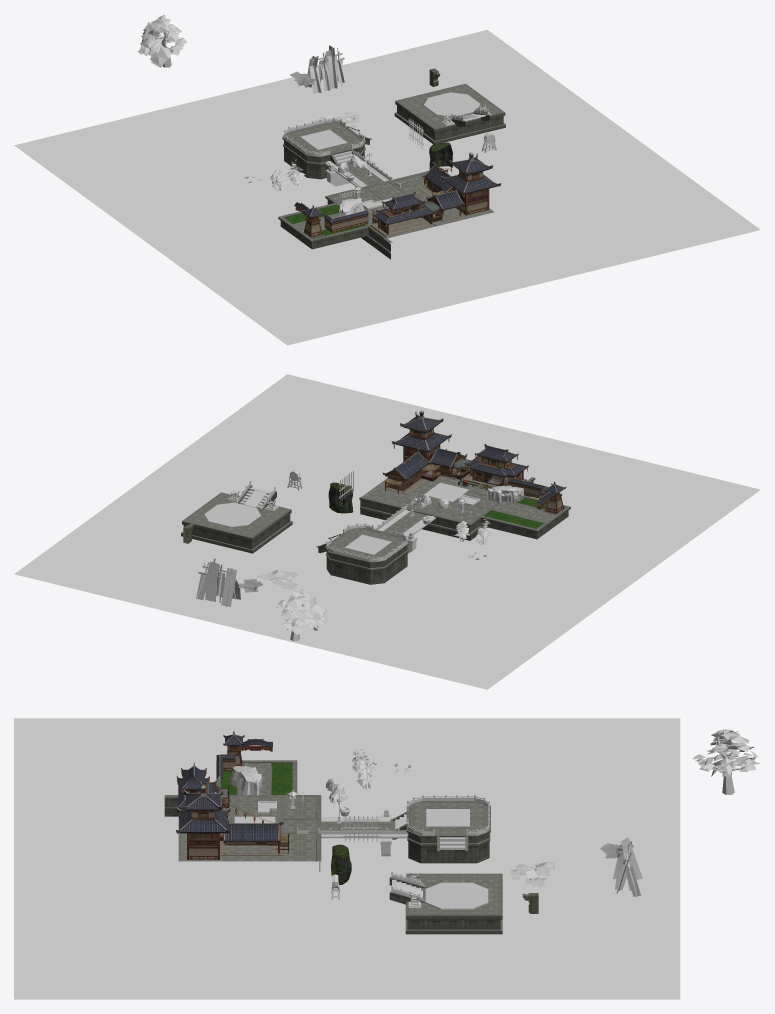
File: S7_3d_pve106.FBX
The picture shows the model from 3 angles, top to bottom: view 1: azimuth 30°, elevation 25°; view 2: azimuth 150°, elevation 25°; view 3: azimuth 270°, elevation 25°; orthographic projection. The views are drawn at different scales.
Parts seen in each view (by area): view 1: S7_3d_pve106_shuimian, S7_3d_pve106_jianzhu_02, S7_3d_pve106_taizi01_04, S7_3d_pve106_lumian01_01, S7_3d_pve106_jianzhu_01, S7_3d_pve106_zhiwu03, S7_3d_pve106_taizi02, S7_3d_pve106_zhiwu01, S7_3d_pve106_lumian01_06, S7_3d_pve106_taizi01_06, S7_3d_pve106_lumian01_03, S7_3d_pve106_taizi05 (+2 smaller); view 2: S7_3d_pve106_shuimian, S7_3d_pve106_jianzhu_02, S7_3d_pve106_lumian01_01, S7_3d_pve106_taizi02, S7_3d_pve106_jianzhu_01, S7_3d_pve106_taizi01_04, S7_3d_pve106_taizi01_01, S7_3d_pve106_zhiwu03, S7_3d_pve106_zhiwu01, S7_3d_pve106_lumian01_06, S7_3d_pve106_taizi01_06, S7_3d_pve106_taizi05 (+6 smaller); view 3: S7_3d_pve106_shuimian, S7_3d_pve106_jianzhu_02, S7_3d_pve106_lumian01_01, S7_3d_pve106_taizi01_04, S7_3d_pve106_taizi02, S7_3d_pve106_zhiwu03, S7_3d_pve106_lumian01_06, S7_3d_pve106_lumian01_03, S7_3d_pve106_taizi05, S7_3d_pve106_jianzhu_01, S7_3d_pve106_zhiwu01, S7_3d_pve106_taizi01_01 (+9 smaller).
Part boxes in pixels (box(x1,y1,x2,y2)): S7_3d_pve106_shuimian: box(14, 30, 760, 345); S7_3d_pve106_jianzhu_02: box(418, 152, 501, 222); S7_3d_pve106_taizi01_04: box(394, 83, 505, 144); S7_3d_pve106_lumian01_01: box(331, 173, 494, 238); S7_3d_pve106_jianzhu_01: box(367, 191, 436, 238); S7_3d_pve106_zhiwu03: box(138, 14, 187, 67); S7_3d_pve106_taizi02: box(282, 122, 366, 179); S7_3d_pve106_zhiwu01: box(305, 45, 344, 93); S7_3d_pve106_lumian01_06: box(399, 85, 500, 128); S7_3d_pve106_taizi01_06: box(278, 203, 368, 249); S7_3d_pve106_lumian01_03: box(286, 123, 362, 153); S7_3d_pve106_taizi05: box(424, 92, 480, 116); S7_3d_pve106_shuimian: box(14, 374, 760, 689); S7_3d_pve106_jianzhu_02: box(382, 410, 471, 494); S7_3d_pve106_lumian01_01: box(362, 468, 496, 522); S7_3d_pve106_taizi02: box(325, 528, 409, 584); S7_3d_pve106_jianzhu_01: box(458, 444, 528, 491); S7_3d_pve106_taizi01_04: box(181, 492, 292, 553); S7_3d_pve106_taizi01_01: box(359, 477, 535, 540); S7_3d_pve106_zhiwu03: box(276, 588, 327, 641); S7_3d_pve106_zhiwu01: box(196, 558, 240, 606); S7_3d_pve106_lumian01_06: box(186, 494, 287, 536); S7_3d_pve106_taizi01_06: box(480, 495, 570, 539); S7_3d_pve106_taizi05: box(204, 502, 260, 527); S7_3d_pve106_shuimian: box(14, 718, 680, 999); S7_3d_pve106_jianzhu_02: box(176, 785, 289, 859); S7_3d_pve106_lumian01_01: box(178, 797, 316, 861); S7_3d_pve106_taizi01_04: box(405, 873, 502, 934); S7_3d_pve106_taizi02: box(406, 801, 490, 863); S7_3d_pve106_zhiwu03: box(693, 729, 760, 794); S7_3d_pve106_lumian01_06: box(409, 875, 499, 913); S7_3d_pve106_lumian01_03: box(410, 802, 487, 834); S7_3d_pve106_taizi05: box(425, 882, 488, 909); S7_3d_pve106_jianzhu_01: box(176, 762, 231, 826); S7_3d_pve106_zhiwu01: box(613, 837, 642, 897); S7_3d_pve106_taizi01_01: box(164, 795, 321, 872).
Size of the model in its own units: 134 by 24.25 by 150.
